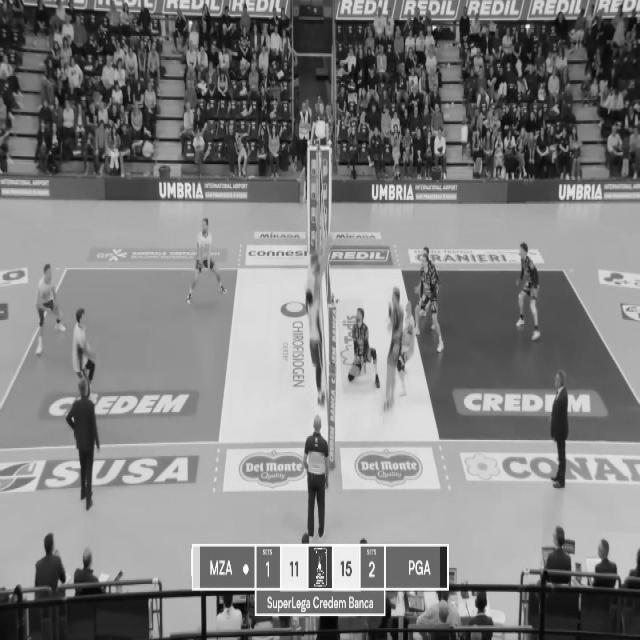volleyball court: (2, 269, 640, 446)
